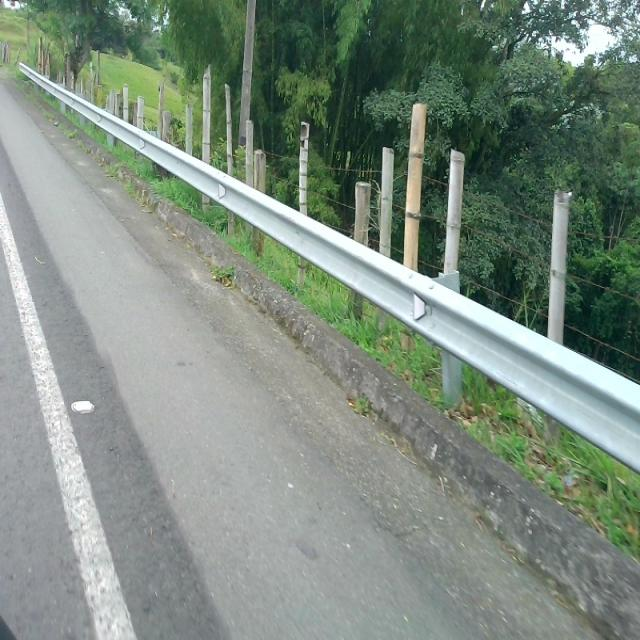DITCH: (1, 76, 638, 638)
